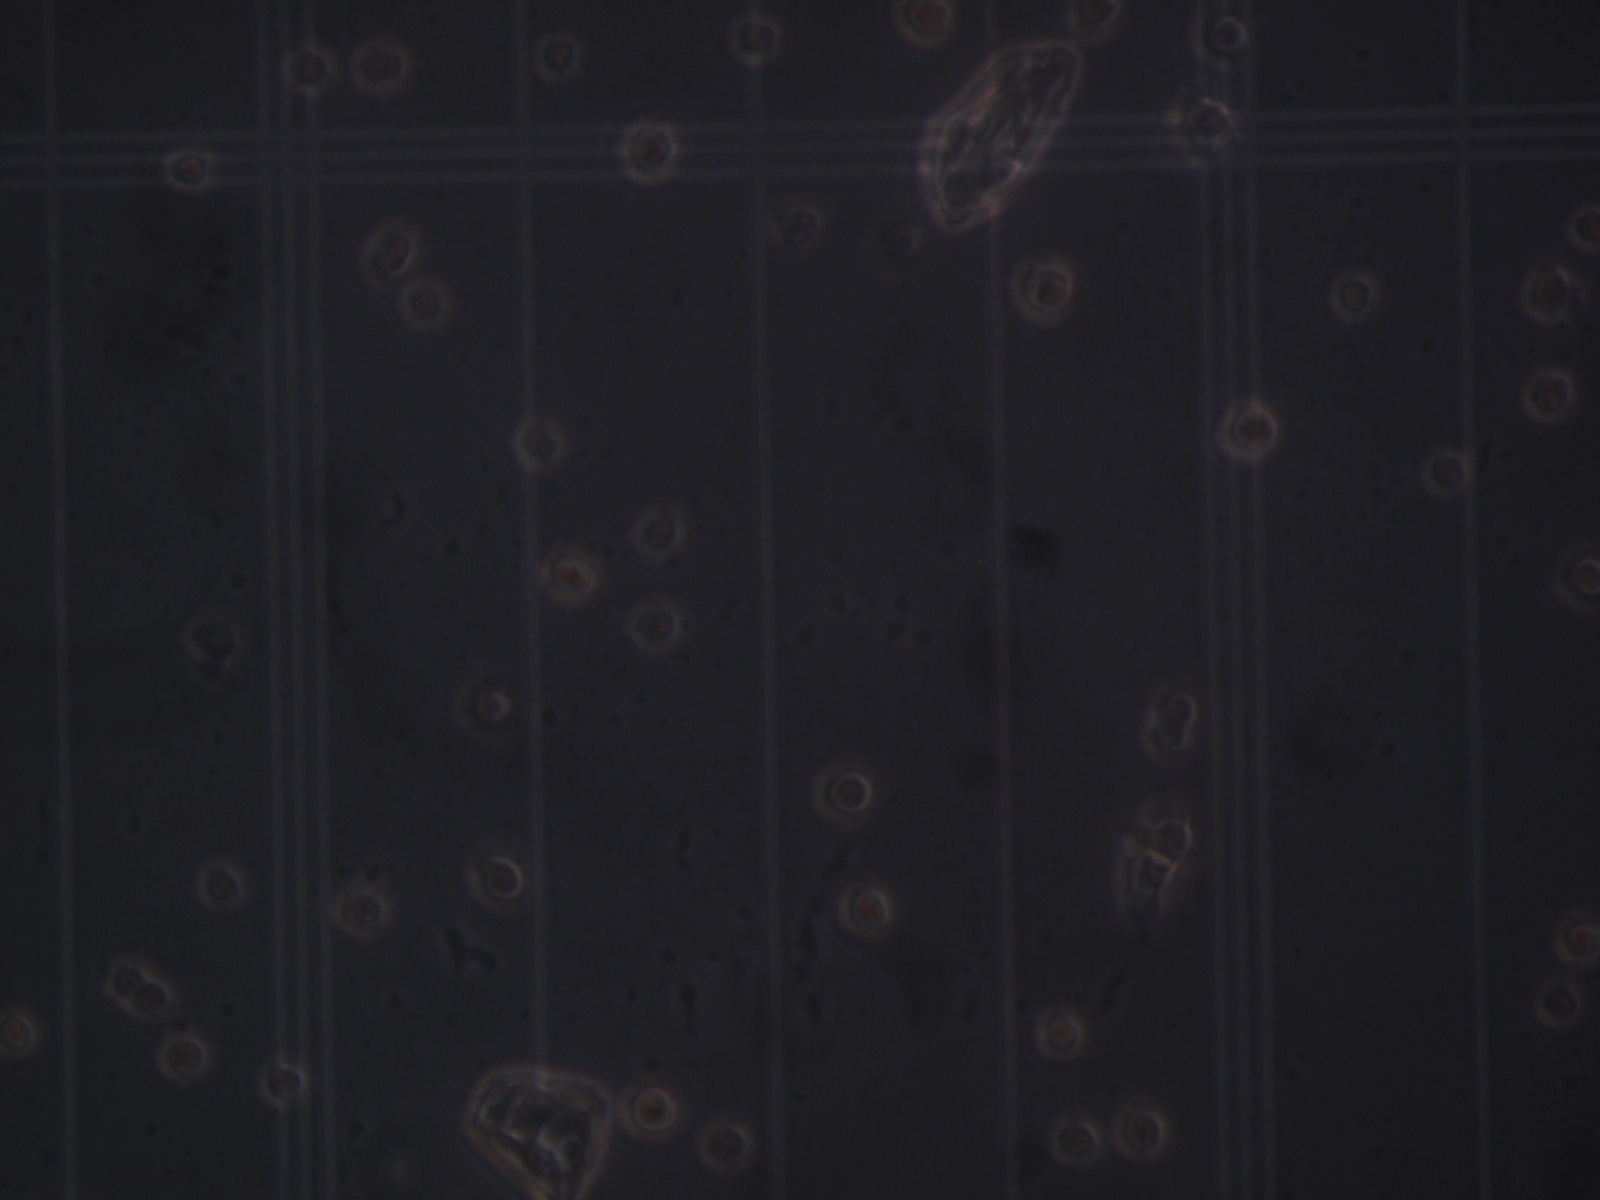hemo: (452, 672, 513, 746), (1009, 257, 1073, 326), (1164, 86, 1233, 149), (619, 1076, 682, 1145), (616, 118, 679, 185), (1112, 843, 1175, 909), (866, 212, 923, 282), (1217, 401, 1280, 463), (1191, 8, 1249, 72), (811, 766, 873, 826), (466, 850, 524, 913), (362, 224, 418, 289), (184, 611, 243, 668), (539, 548, 597, 605), (350, 42, 411, 95), (1552, 547, 1600, 614), (333, 884, 389, 939), (1521, 263, 1574, 323), (627, 599, 683, 653), (837, 884, 892, 938), (1521, 368, 1575, 424), (1112, 1105, 1167, 1160), (698, 1119, 753, 1172), (513, 417, 564, 471), (893, 1, 952, 48), (283, 44, 336, 96), (632, 508, 684, 558), (729, 15, 781, 66), (1036, 1008, 1085, 1060), (157, 1032, 209, 1082), (1049, 1117, 1101, 1166), (1534, 978, 1584, 1029), (401, 280, 450, 330), (1065, 1, 1123, 43), (534, 33, 582, 82), (1422, 449, 1471, 497), (260, 1060, 307, 1109), (1329, 272, 1377, 321), (1553, 915, 1600, 966), (163, 147, 215, 192), (1141, 716, 1192, 760), (198, 861, 244, 908), (1151, 818, 1194, 863), (106, 958, 147, 1001), (130, 978, 174, 1018), (1, 1010, 38, 1058), (1569, 205, 1600, 253)
